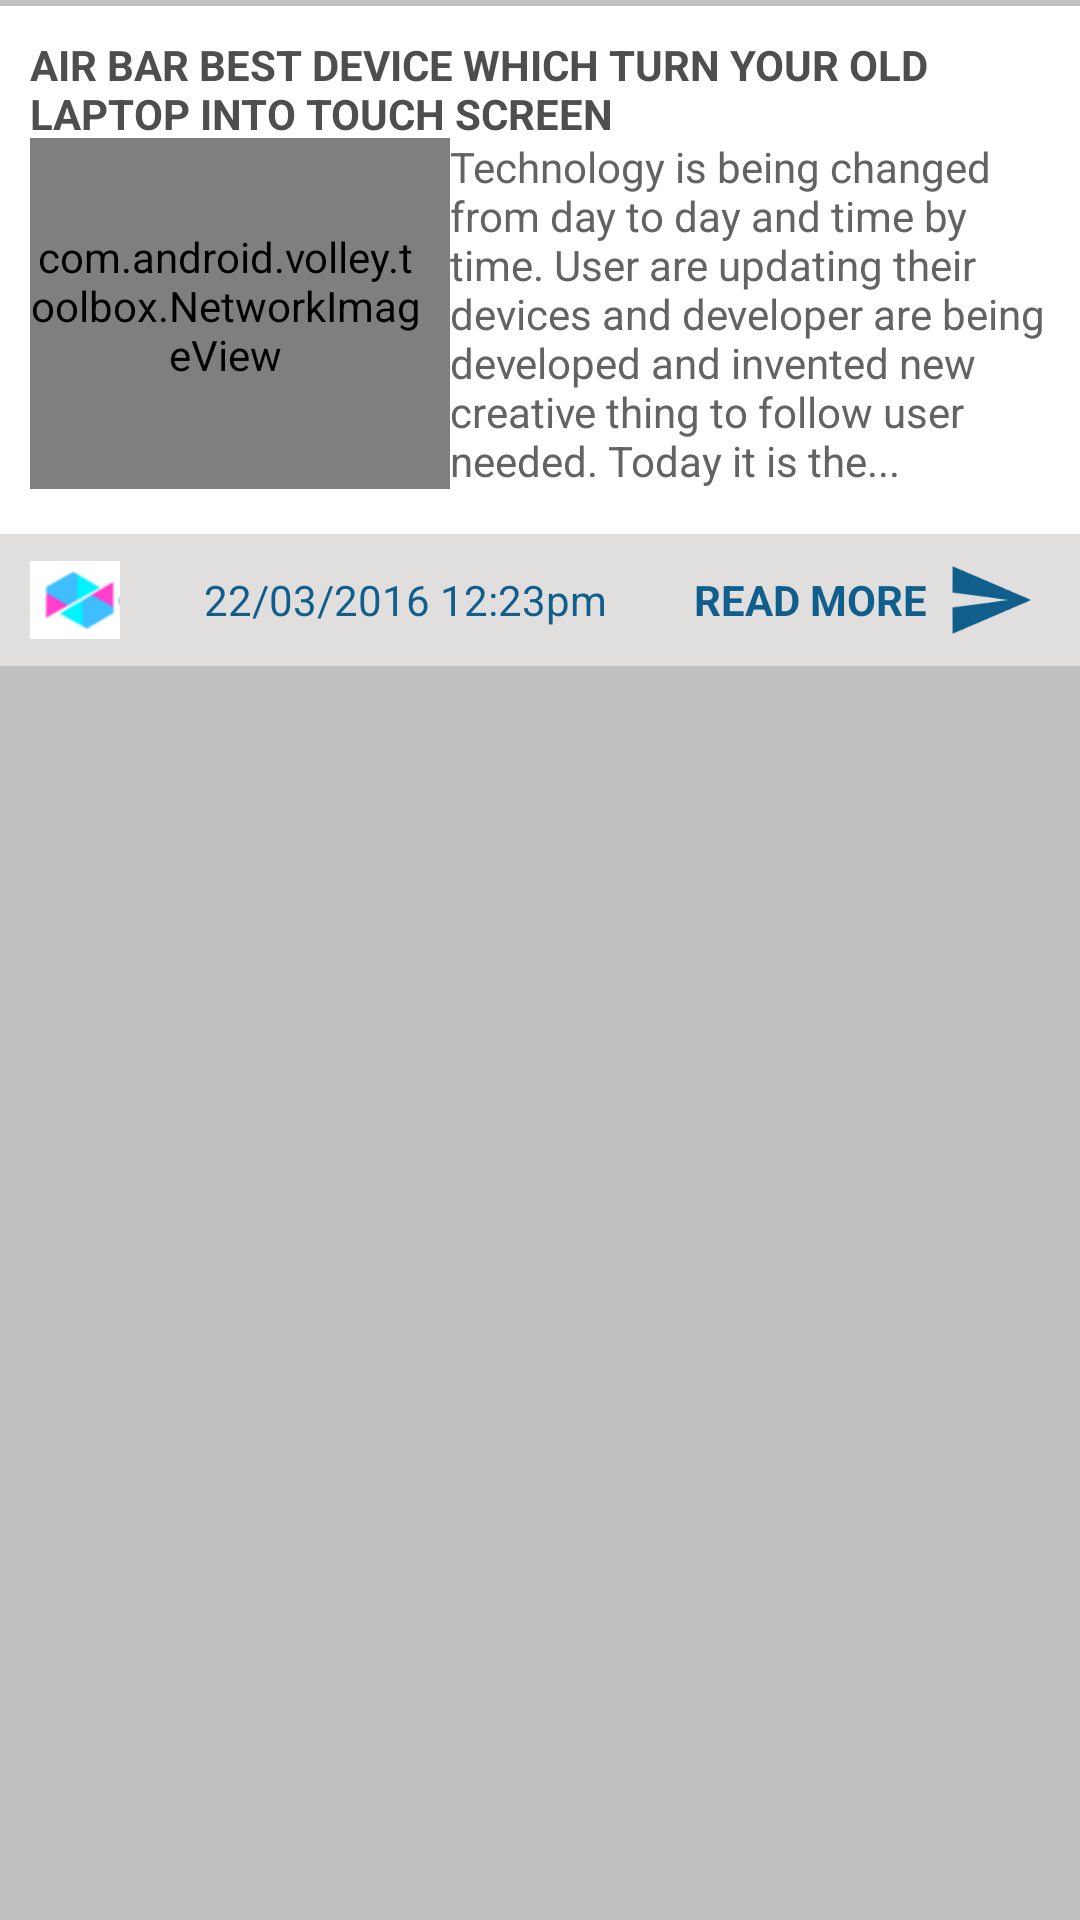

Point at icon controls on the screen. Image size 1080w x 1920h, points as (x=x, y=y).
content send: (x=991, y=600)
